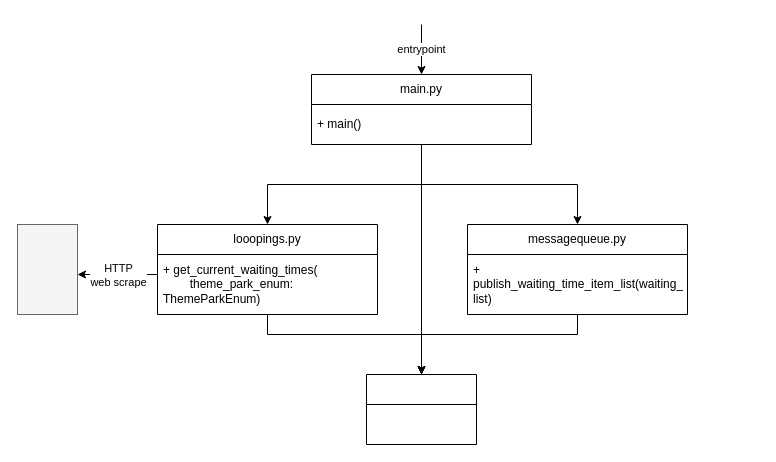
The diagram is 776 pixels wide and 462 high, and some of its shapes have lost their labels. The centre of each missing label's shape, as x and y in pixels:
"common.py" belongs at [421,409].
"External Source" belongs at [47,269].
